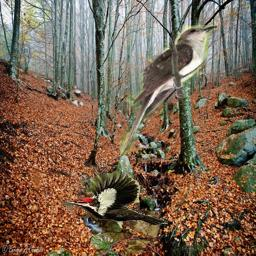Cuckoo: (120, 25, 217, 155)
Woodpecker: (60, 171, 168, 226)
